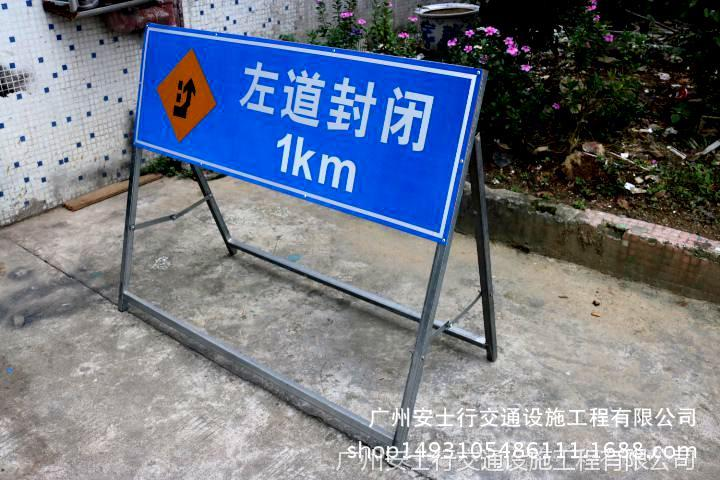sign: (108, 24, 506, 245)
